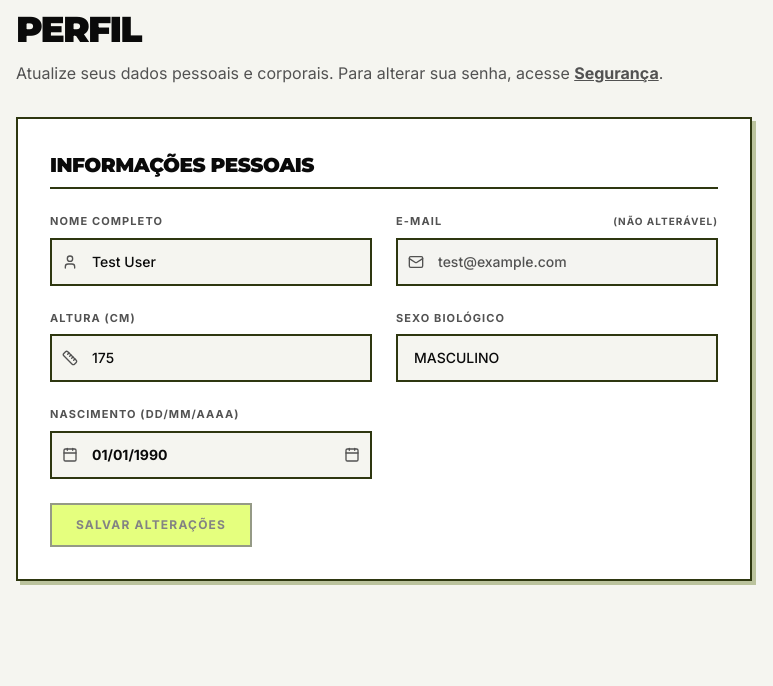
Test case: EditProfilePage Component (PC-34 / TST-011) › deve submeter o formulário com sucesso quando dados válidos forem enviados
Replace the text in the field showing "Test User" with "Nome Atualizado" at (211, 262), box [50,238,372,286]
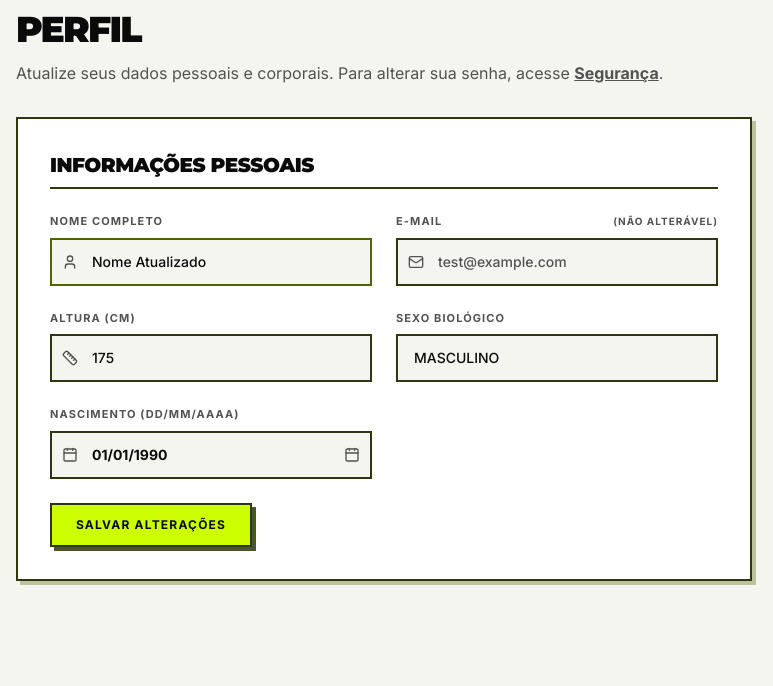
Click the button "SALVAR ALTERAÇÕES" at (151, 524), box [50,502,252,546]
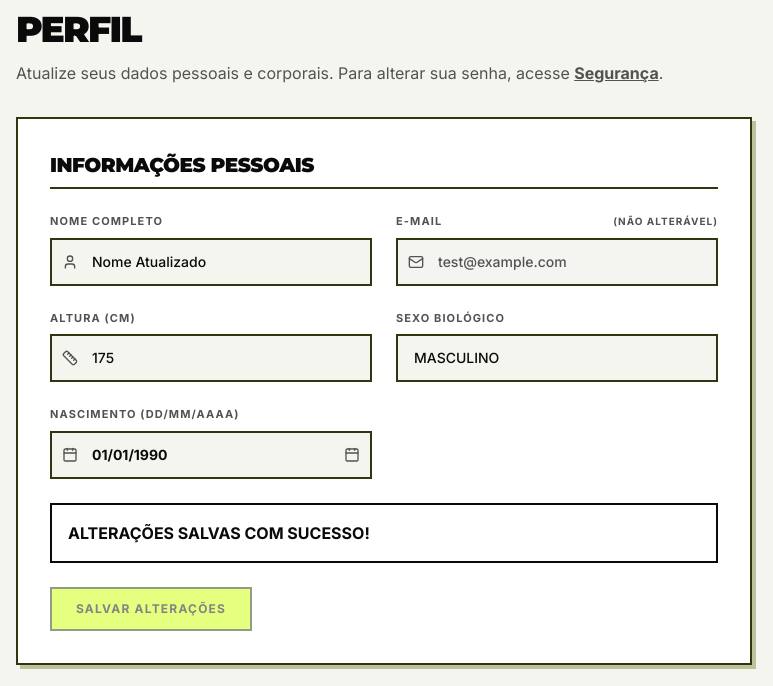
Expected: the text "ALTERAÇÕES SALVAS COM SUCESSO!" is shown, [50,502,718,562]
